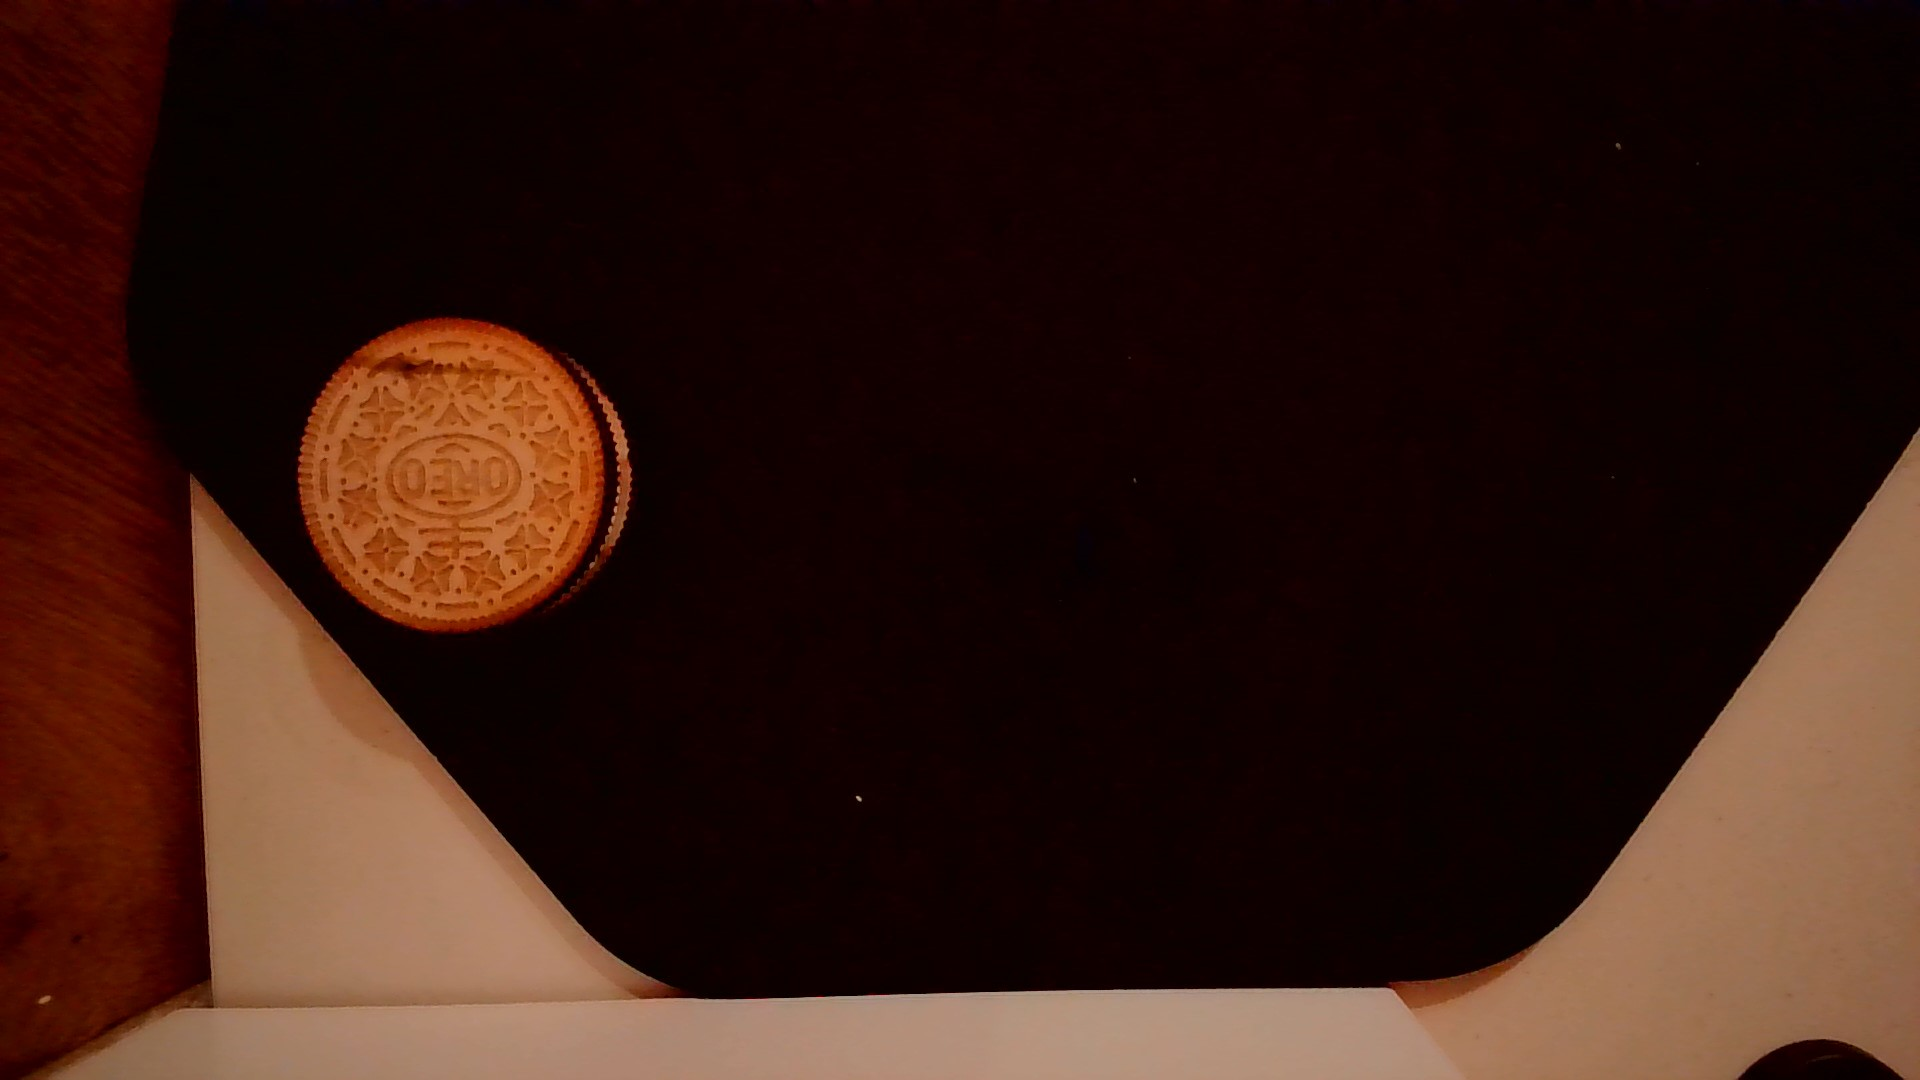Oréo: (291, 311, 636, 640)
